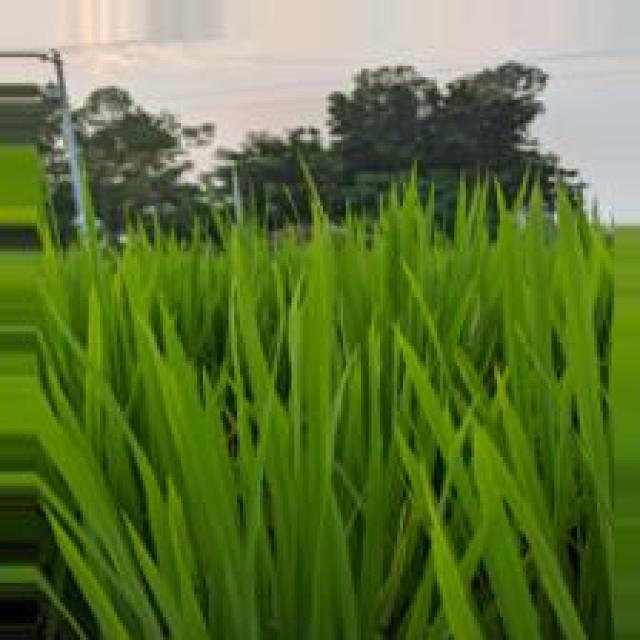HealthyLeaf: (114, 212, 362, 640)
